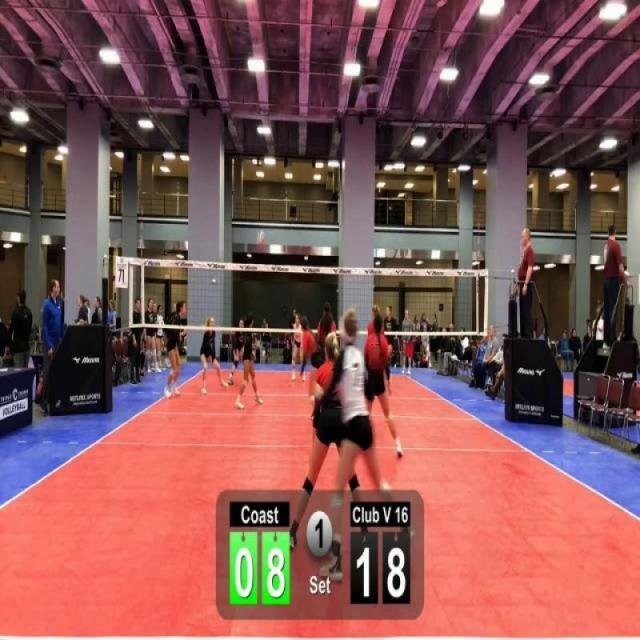volleyball: (254, 228, 266, 250)
